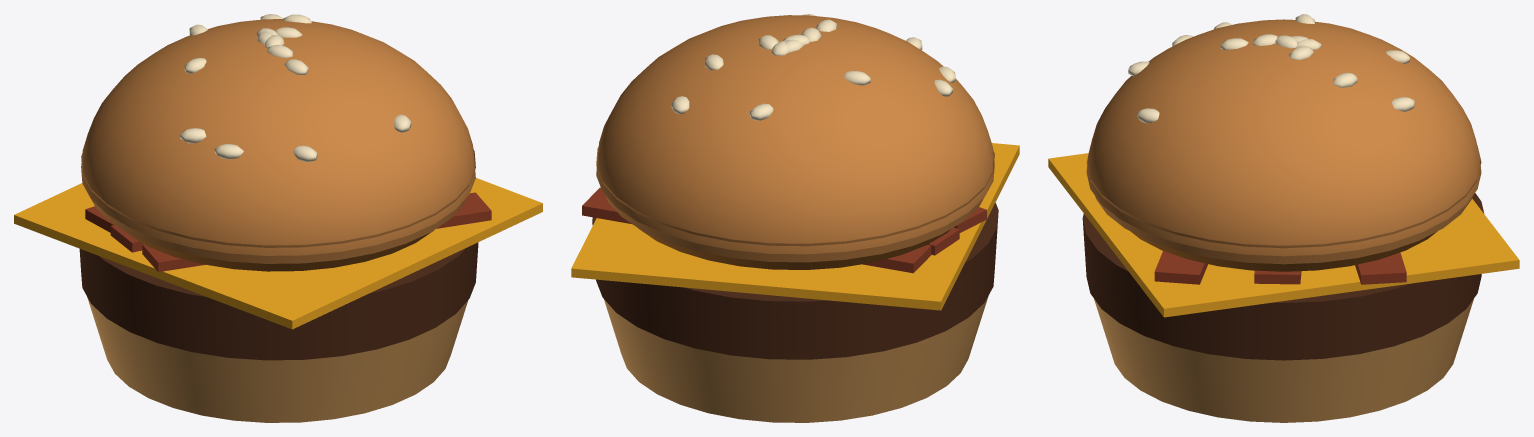
The model's file is burger-res-dulce.glb.
3 views of the same model, side by side, from view 1: azimuth 30°, elevation 25°; view 2: azimuth 150°, elevation 25°; view 3: azimuth 270°, elevation 25° (orthographic).
Bounding box in the file's own units: 0.1672 × 0.122 × 0.1672.
